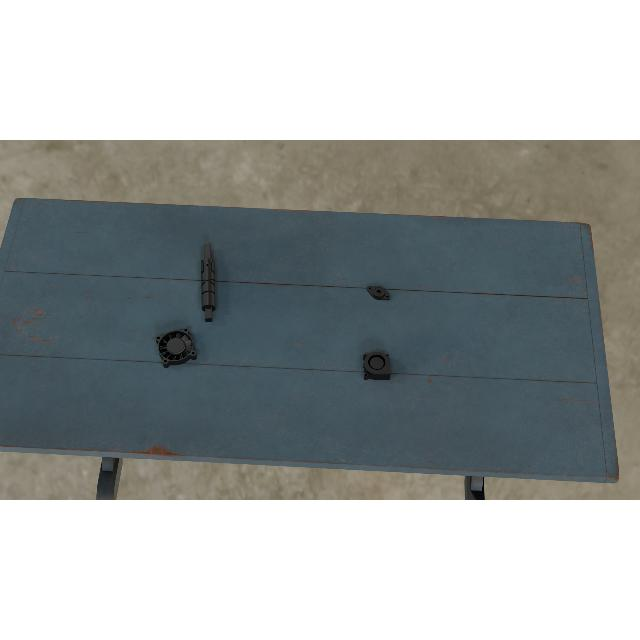Pieza1: (200, 242, 216, 324)
Pieza2: (364, 282, 394, 304)
Pieza3: (362, 351, 390, 381)
Pieza4: (154, 326, 198, 369)
